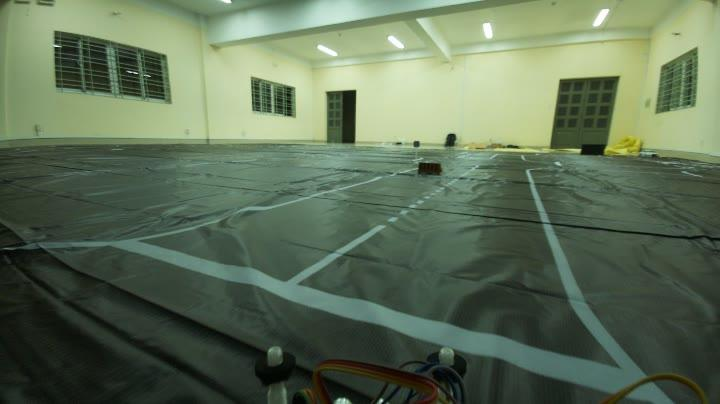roadblock: (412, 158, 444, 180)
